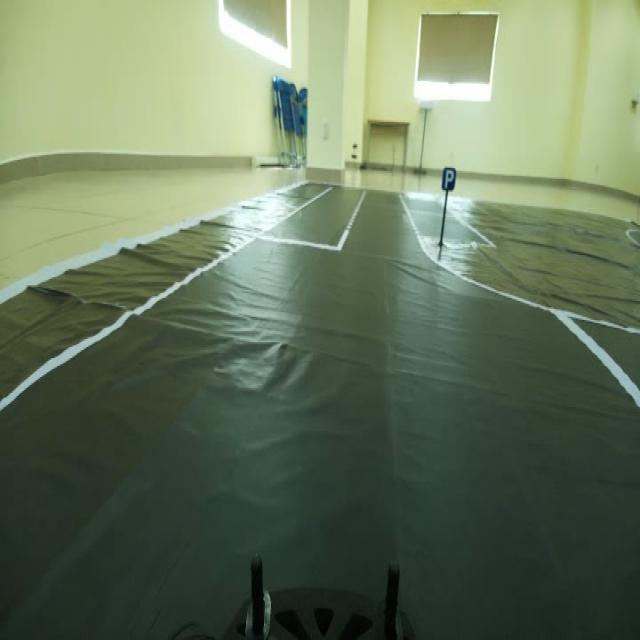parking: (438, 153, 460, 200)
